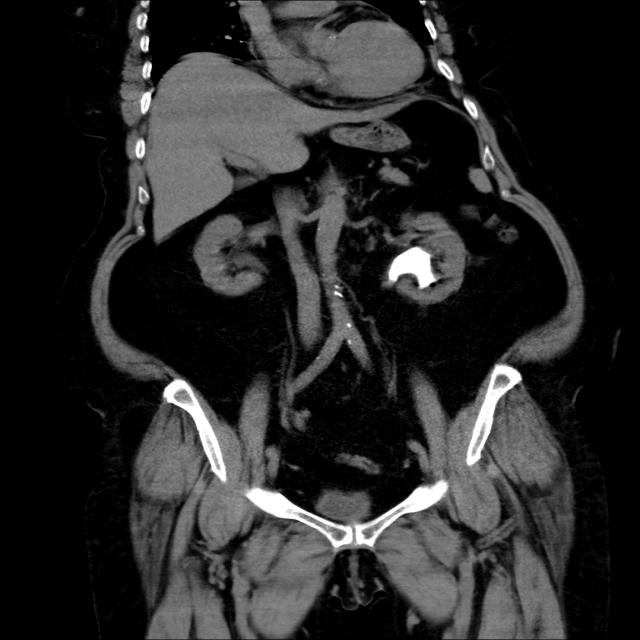kidneystone: (388, 246, 436, 288)
